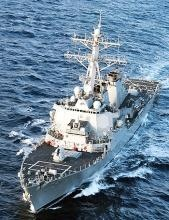warship: (17, 11, 160, 207)
